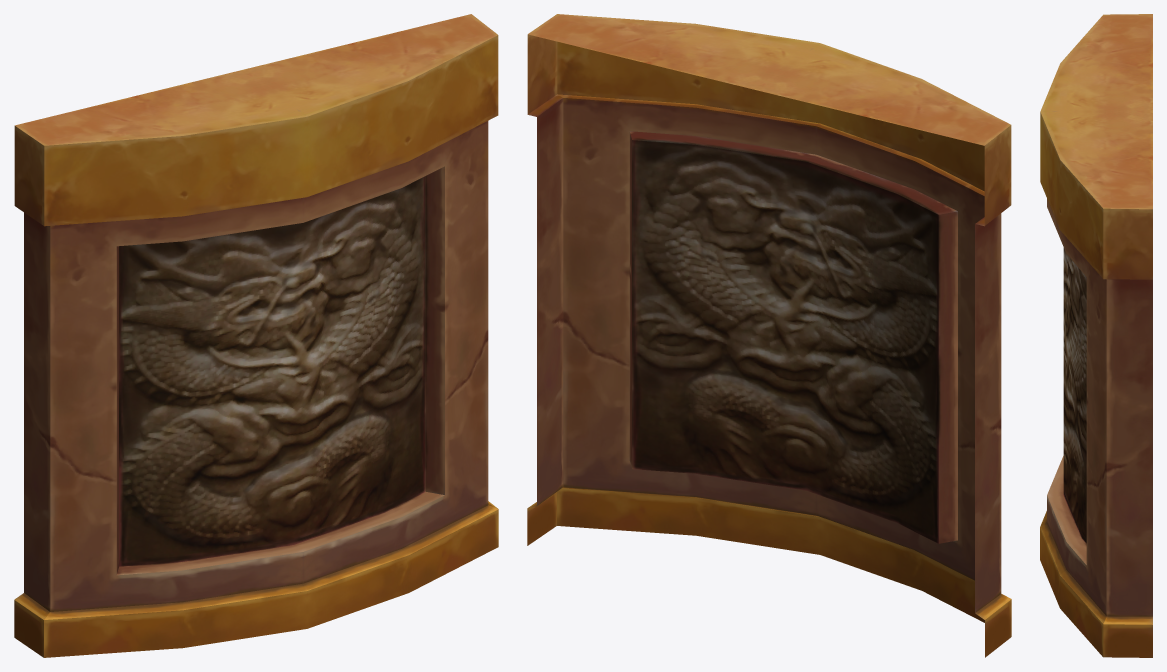
Rendered from Stage_01_02_LongBiQiang.FBX.
3 views of the same model, side by side, from view 1: azimuth 30°, elevation 25°; view 2: azimuth 150°, elevation 25°; view 3: azimuth 270°, elevation 25° (orthographic). The views are drawn at different scales.
Visible parts, largest first — view 1: Stage_01_02_LongBiQiang; view 2: Stage_01_02_LongBiQiang; view 3: Stage_01_02_LongBiQiang.
Boxes of the visible parts, bbox=[...] form: Stage_01_02_LongBiQiang: bbox=[14, 14, 498, 657]; Stage_01_02_LongBiQiang: bbox=[527, 14, 1011, 657]; Stage_01_02_LongBiQiang: bbox=[1040, 14, 1152, 657].
Size of the model in its own units: 652 by 697 by 159.
